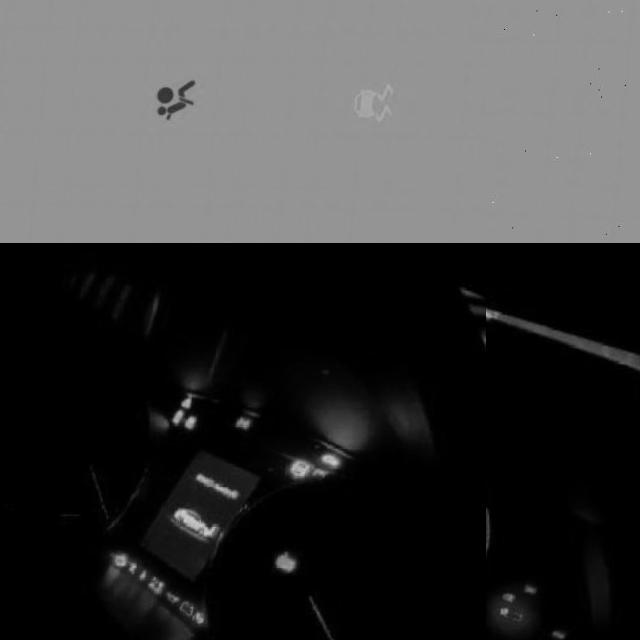Seat Belt: (143, 566, 157, 580)
